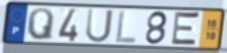4: (57, 7, 81, 43)
8: (144, 10, 168, 46)
E: (170, 9, 202, 48)
L: (114, 9, 138, 45)
Q: (26, 7, 55, 42)
U: (84, 8, 115, 44)
